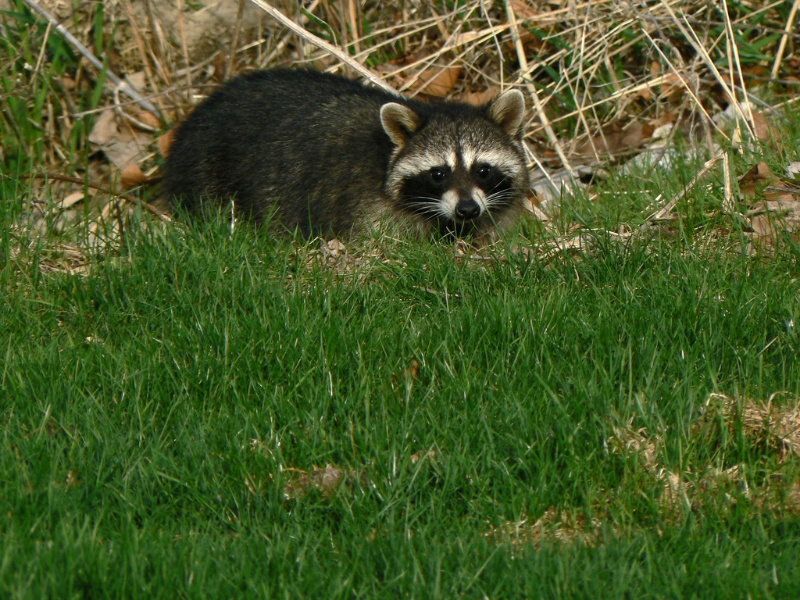raccoon: (151, 64, 550, 272)
